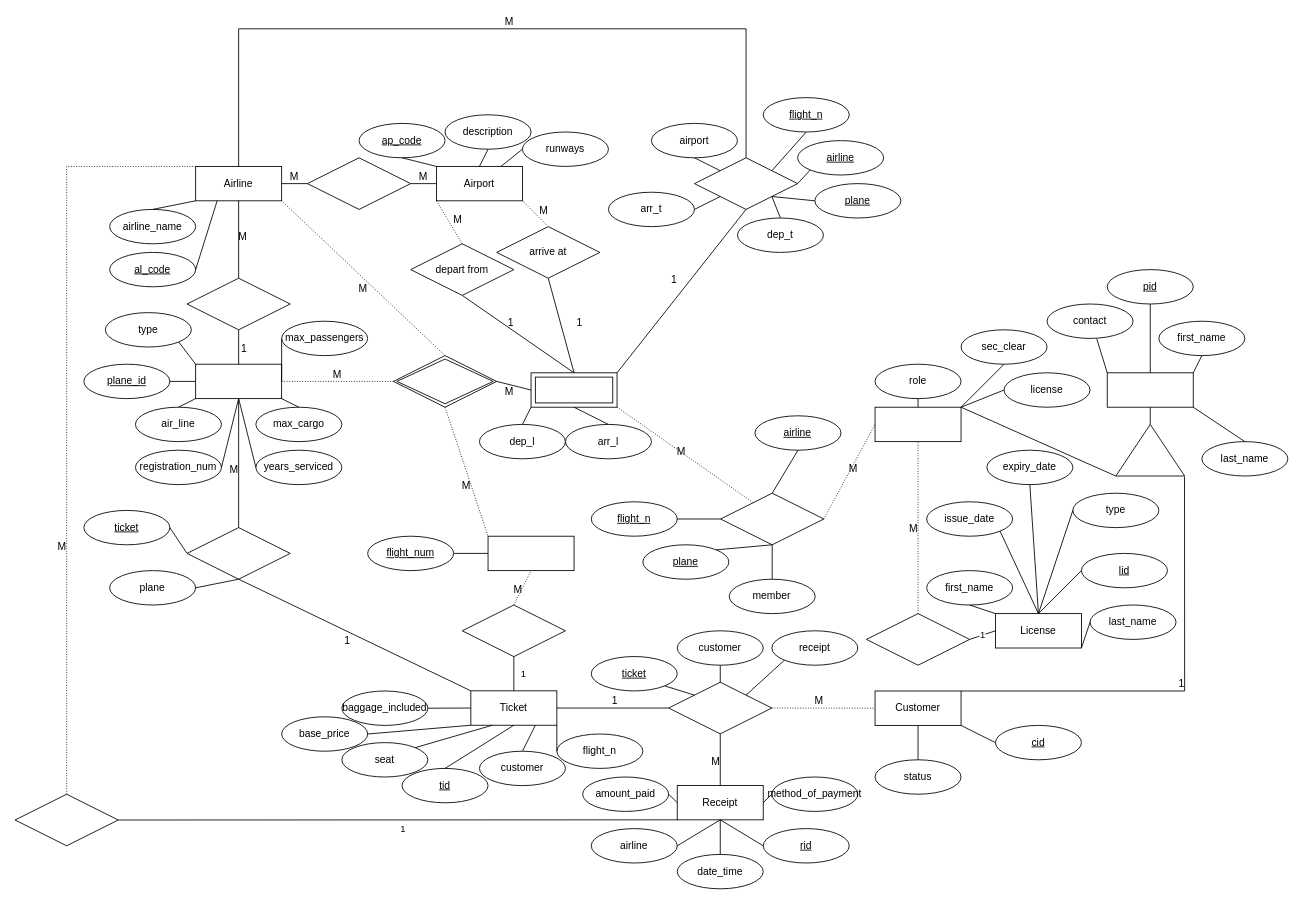
This 1303x904 diagram has some shape labels left out. The shapes that lost their labels are listed below. From the top down, each one's centre as x and y in pixels, then its label:
At (x=359, y=183): "belongs to".
At (x=746, y=183): "Schedules".
At (x=238, y=303): "owns".
At (x=238, y=381): "Airplane".
At (x=445, y=381): "Involves".
At (x=573, y=389): "Flight".
At (x=1149, y=389): "Person".
At (x=917, y=424): "Staff".
At (x=1150, y=450): "is a".
At (x=772, y=518): "assign_crew".
At (x=238, y=553): "check_ticket".
At (x=530, y=553): "Flight_number".
At (x=513, y=630): "have".
At (x=918, y=639): "has".
At (x=720, y=707): "purchase".
At (x=66, y=819): "lables".
